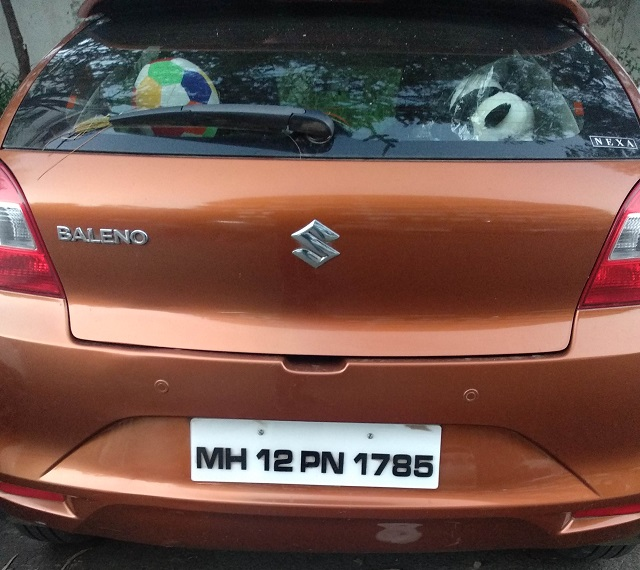licenseplate: (188, 416, 443, 491)
